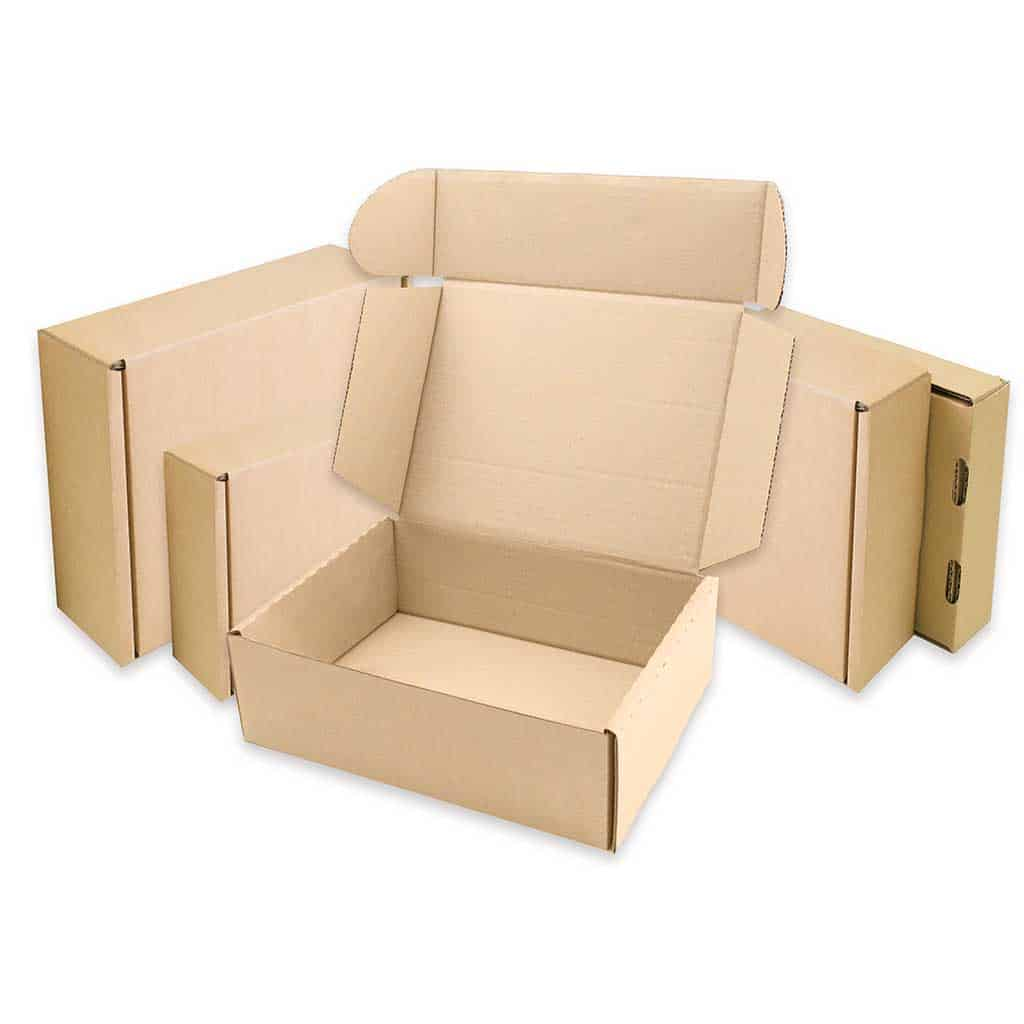Rec_Paper: (35, 139, 1010, 845), (235, 171, 803, 851), (46, 230, 387, 656), (733, 282, 1016, 691)
